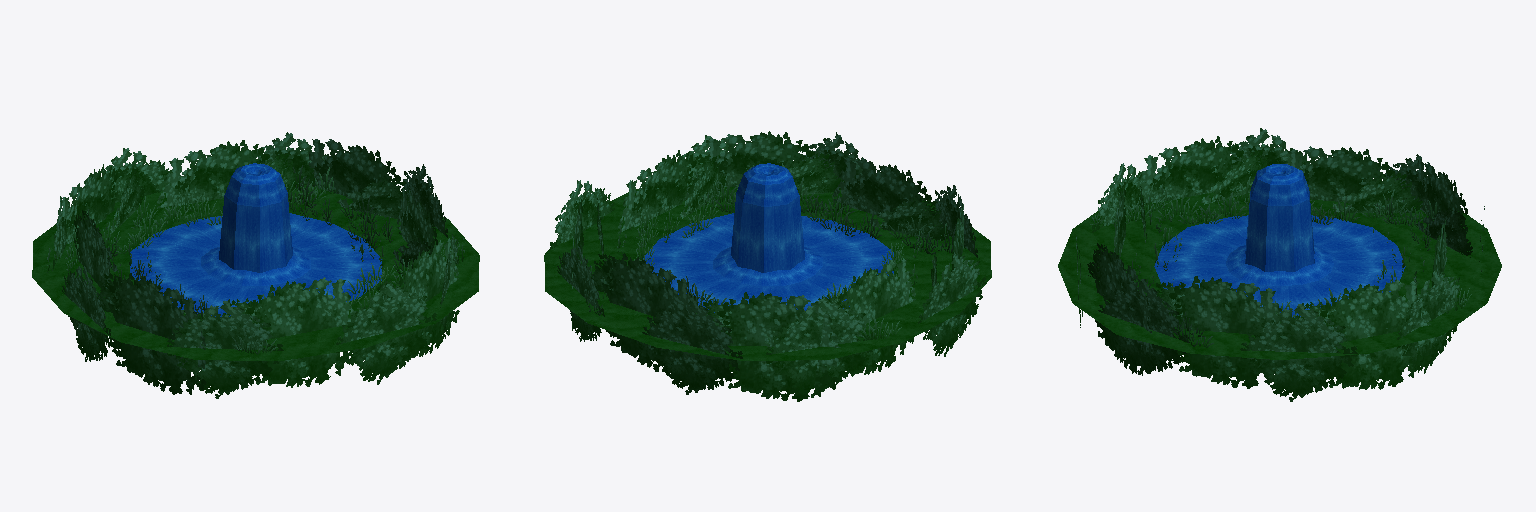
The picture shows the model from 3 angles: view 1: azimuth 30°, elevation 25°; view 2: azimuth 150°, elevation 25°; view 3: azimuth 270°, elevation 25°; orthographic projection.
Visible parts, largest first — view 1: Foliage, Waterfall, Ground; view 2: Foliage, Waterfall, Ground; view 3: Foliage, Waterfall, Ground.
Part boxes in pixels (bbox=[...]): Foliage: bbox=[47, 132, 464, 398]; Waterfall: bbox=[130, 163, 381, 316]; Ground: bbox=[32, 185, 479, 360]; Foliage: bbox=[549, 131, 985, 401]; Waterfall: bbox=[643, 163, 893, 312]; Ground: bbox=[544, 187, 991, 360]; Foliage: bbox=[1076, 128, 1484, 401]; Waterfall: bbox=[1154, 164, 1405, 317]; Ground: bbox=[1058, 192, 1501, 359].
Bounding box in the file's own units: 7.44 × 3.19 × 7.44.
5 materials, 5 textured.